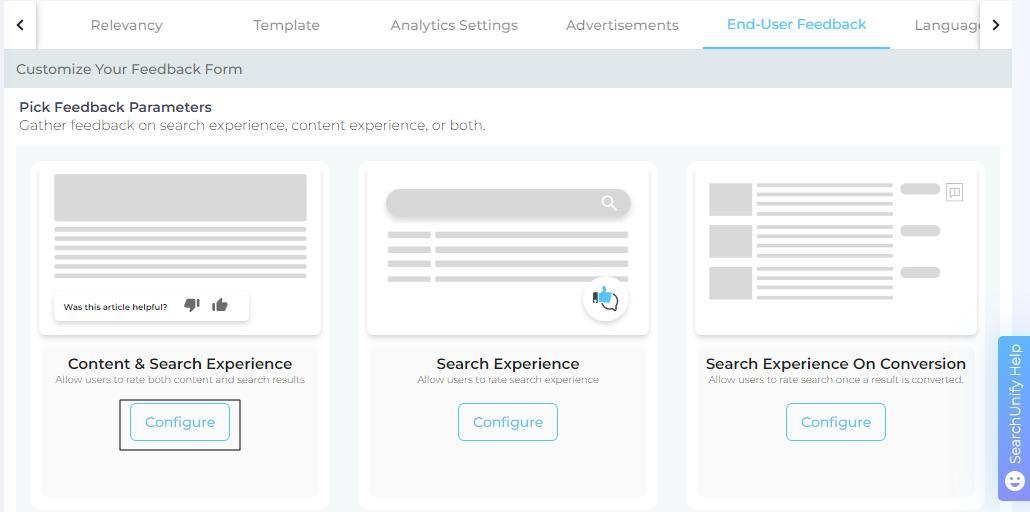button: (132, 402, 232, 441), (460, 403, 561, 441), (788, 404, 886, 441)
icon: (180, 295, 204, 317), (208, 296, 232, 318), (990, 16, 1003, 37)
label: (61, 298, 171, 317)
